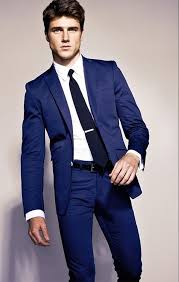tie: (62, 68, 113, 177)
